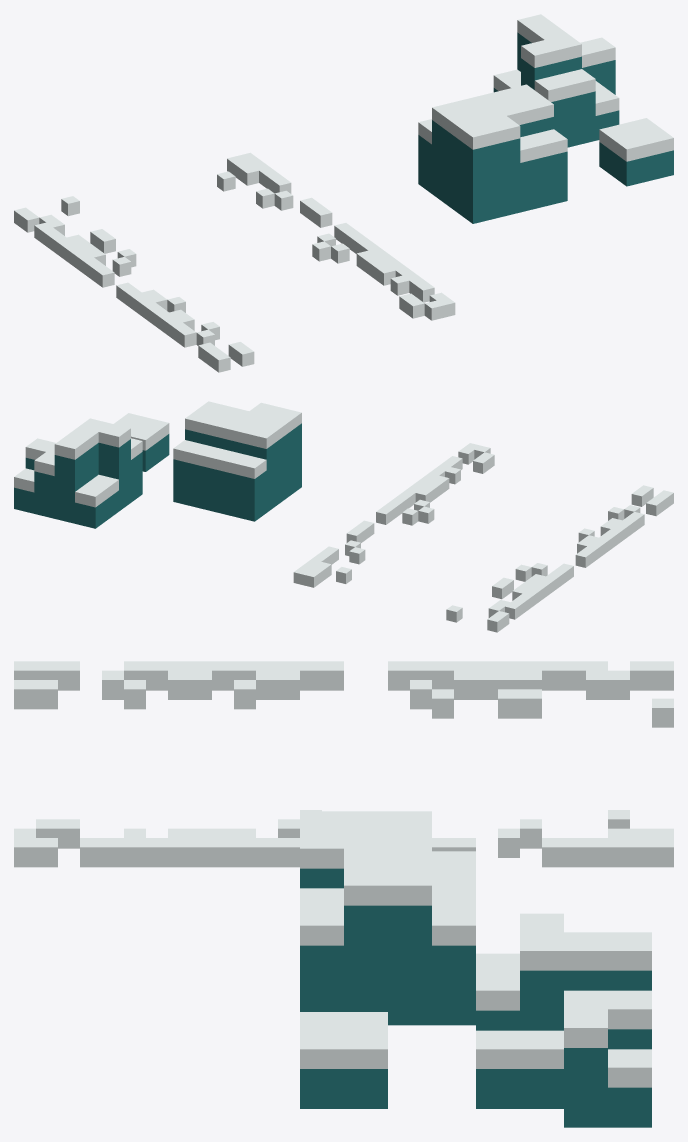
The model's file is etc.fbx.
3 views of the same model, one above another, from view 1: azimuth 30°, elevation 25°; view 2: azimuth 150°, elevation 25°; view 3: azimuth 270°, elevation 25° (orthographic). The views are drawn at different scales.
Parts seen in each view (by area): view 1: Box007, Box006, Plane001, Plane047, Box008; view 2: Box007, Box006, Plane001, Plane047, Box008; view 3: Box007, Box006, Plane001, Plane047, Box008.
Boxes of the visible parts, box(x1,y1,x2,y2) form: Box007: box(418, 84, 567, 223); Box006: box(493, 14, 619, 147); Plane001: box(14, 196, 254, 372); Plane047: box(217, 152, 455, 320); Box008: box(599, 118, 673, 186); Box007: box(173, 401, 301, 521); Box006: box(14, 418, 142, 528); Plane001: box(446, 485, 673, 632); Plane047: box(293, 443, 494, 587); Box008: box(114, 413, 169, 471); Box007: box(300, 811, 475, 1025); Box006: box(476, 913, 651, 1127); Plane001: box(14, 661, 673, 727); Plane047: box(14, 810, 673, 867); Box008: box(300, 1012, 387, 1108).
Size of what is drawn, in the model's own units: 240 by 35 by 150.
